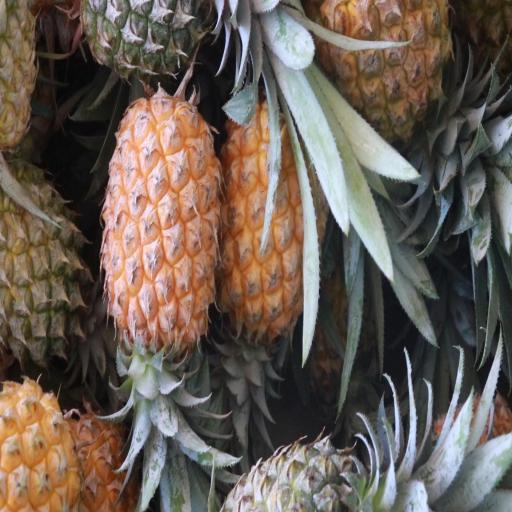------------------------------: (0, 171, 83, 358)
Pineapple - v8 v1: (99, 97, 219, 351), (219, 100, 321, 334), (322, 0, 456, 155)
